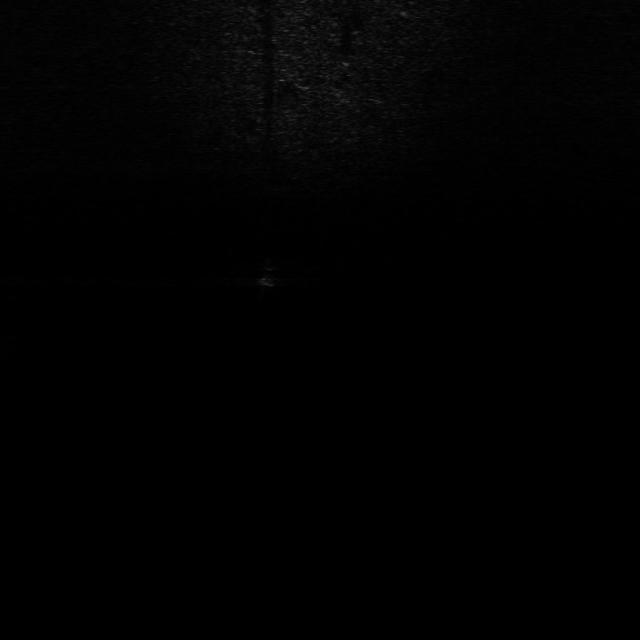human body: (247, 254, 284, 300)
